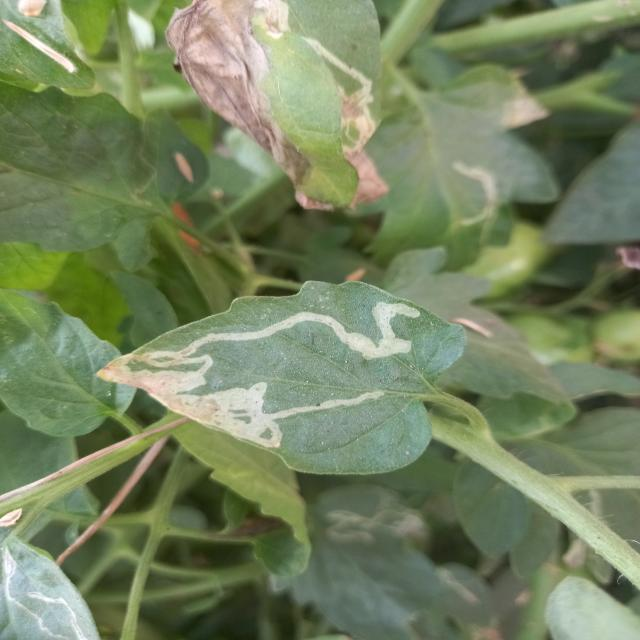Tuta absoluta: (97, 287, 441, 480)
